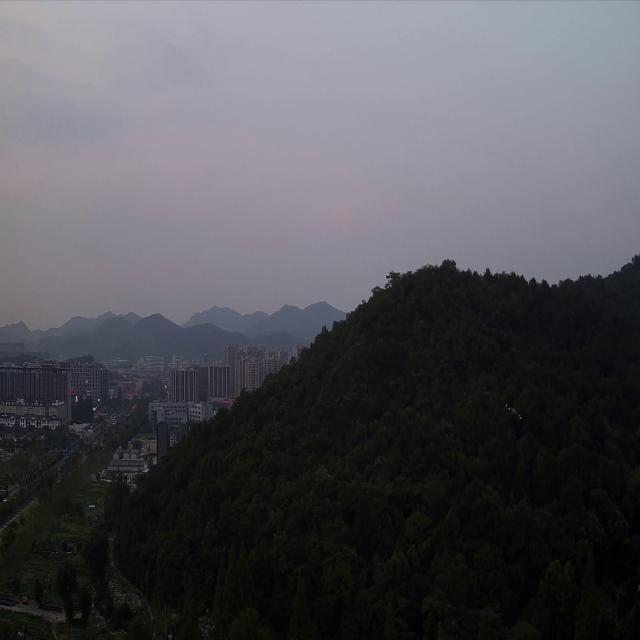drone: (504, 402, 524, 422)
